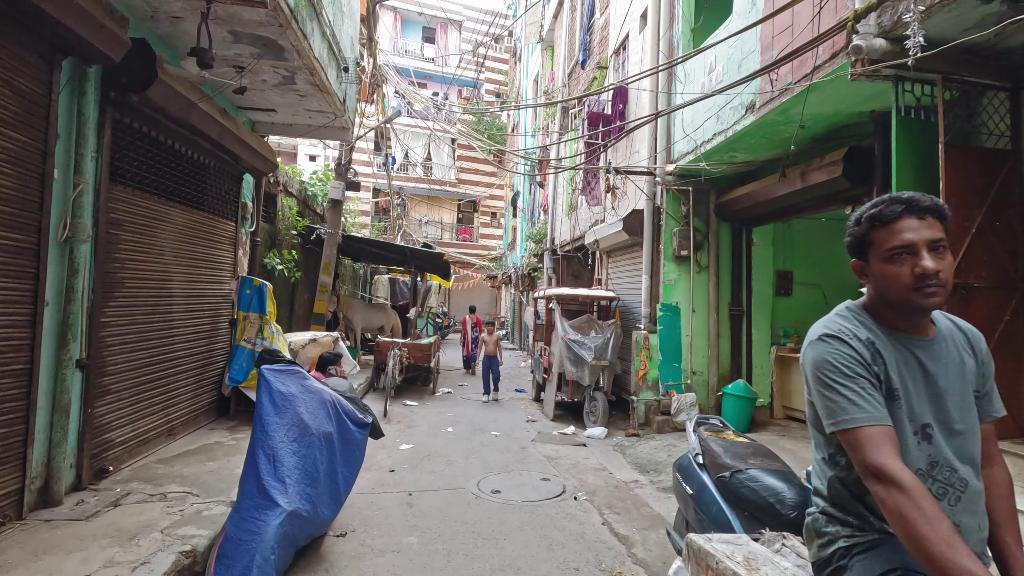dustbin: (719, 375, 761, 433)
garbage: (396, 437, 417, 459), (584, 424, 610, 441), (551, 420, 575, 437), (433, 381, 454, 396), (401, 395, 418, 410)
